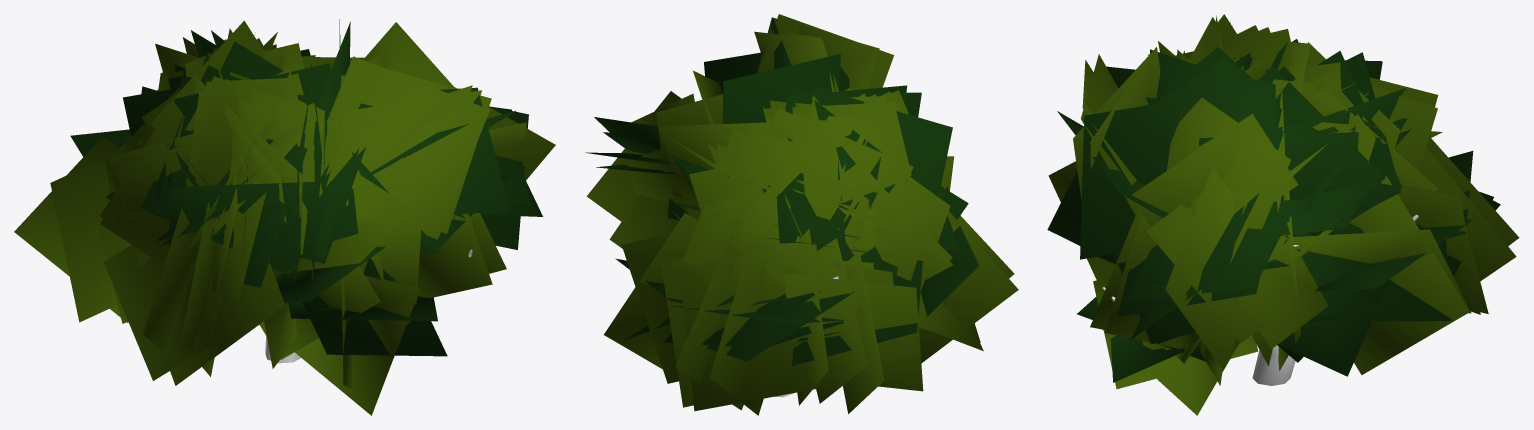
Rendered from TestExportTree3.FBX.
3 renders of one model, left to right at view 1: azimuth 30°, elevation 25°; view 2: azimuth 150°, elevation 25°; view 3: azimuth 270°, elevation 25°, orthographic. The views are drawn at different scales.
Visible parts, largest first — view 1: Plane092; view 2: Plane092; view 3: Plane092, Cylinder062.
Boxes of the visible parts, x1,y1,x2,y2 form: Plane092: [14, 19, 555, 415]; Plane092: [585, 14, 1018, 415]; Plane092: [1047, 14, 1519, 415]; Cylinder062: [1102, 214, 1418, 385].
Bounding box in the file's own units: 2153 × 1773 × 2074.
